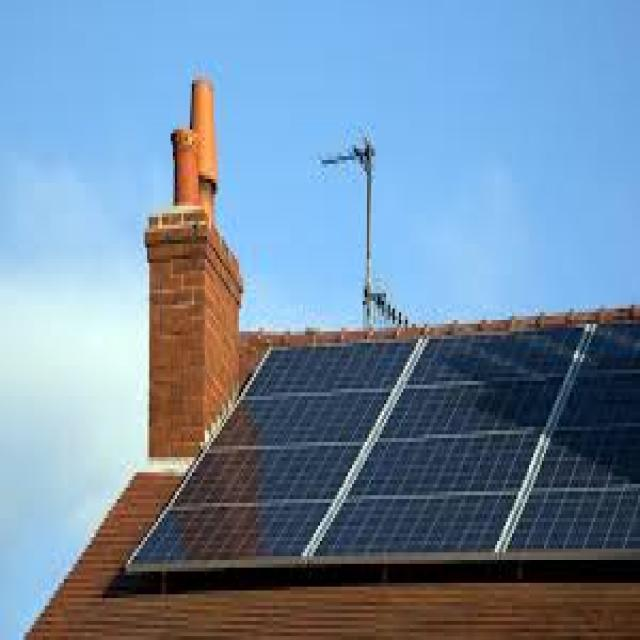clean-solar-panel: (126, 323, 640, 587)
